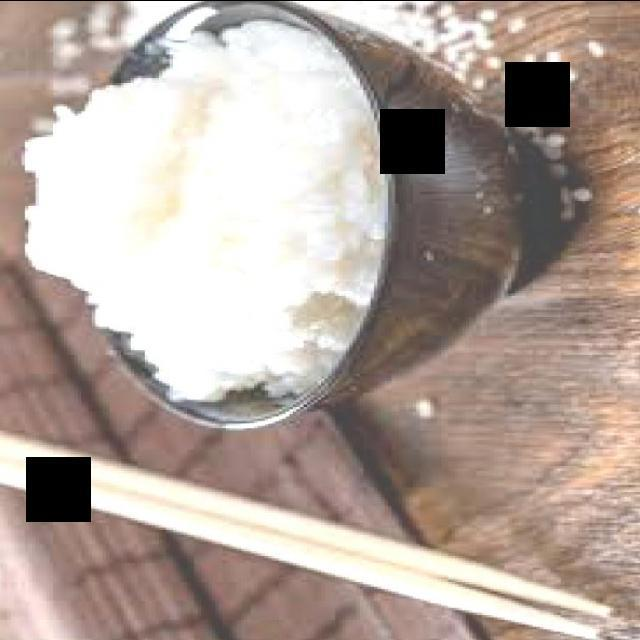Chicken -Chicken Inasal-: (20, 21, 380, 400)
